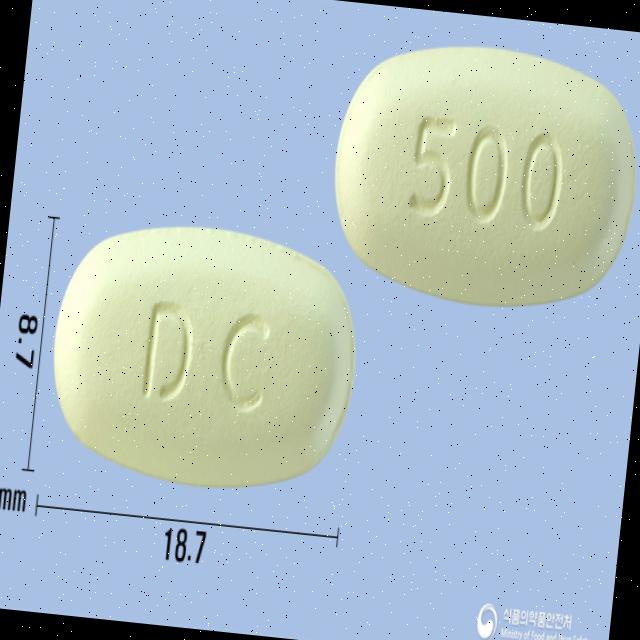Clavix: (39, 204, 374, 512), (318, 24, 640, 326)
